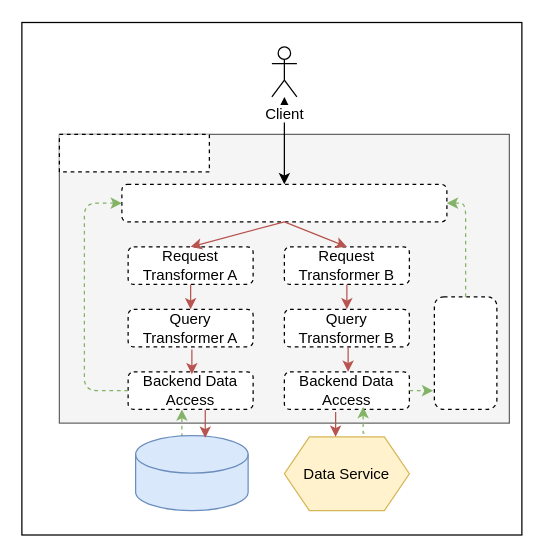
Some shapes in this 544 by 556 pixel diagram are drawn without their labels. Each missing label, with the centre of its shape:
"Controllers" belongs at point 284,202.
"Data Storage" belongs at point 191,472.
"Format Trans- former" belongs at point 465,352.
"OGC API - Features Server" belongs at point 133,152.
